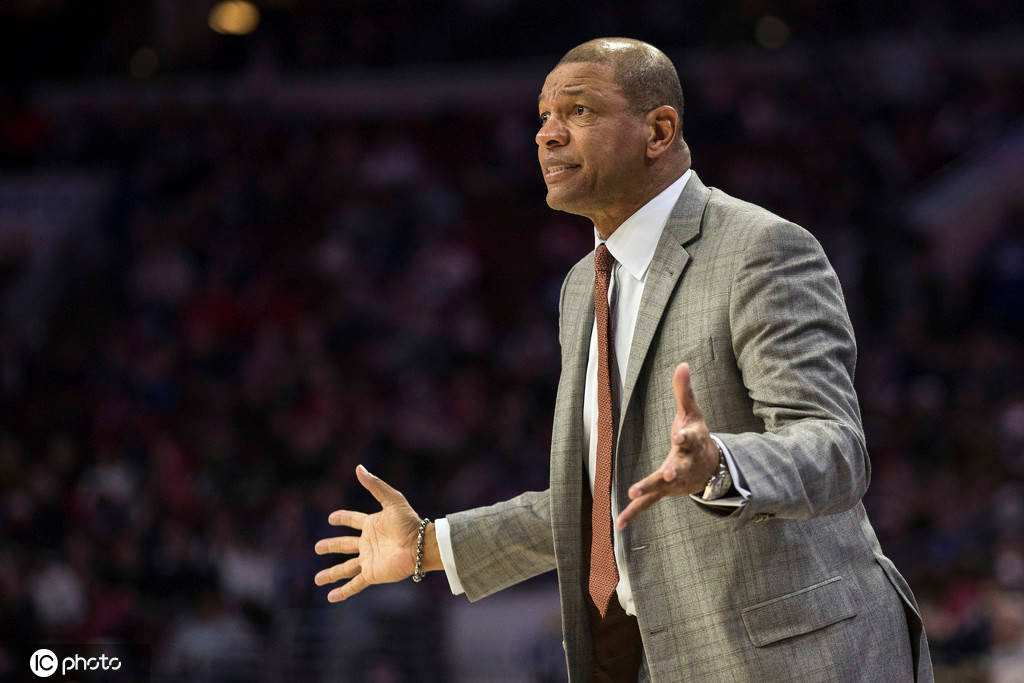no-phone: (612, 359, 719, 526), (311, 461, 418, 604)
